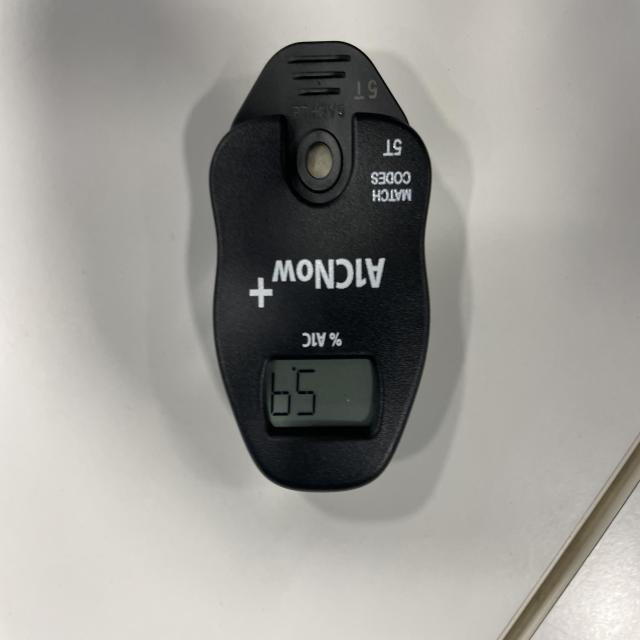hba1c: (207, 43, 434, 495)
